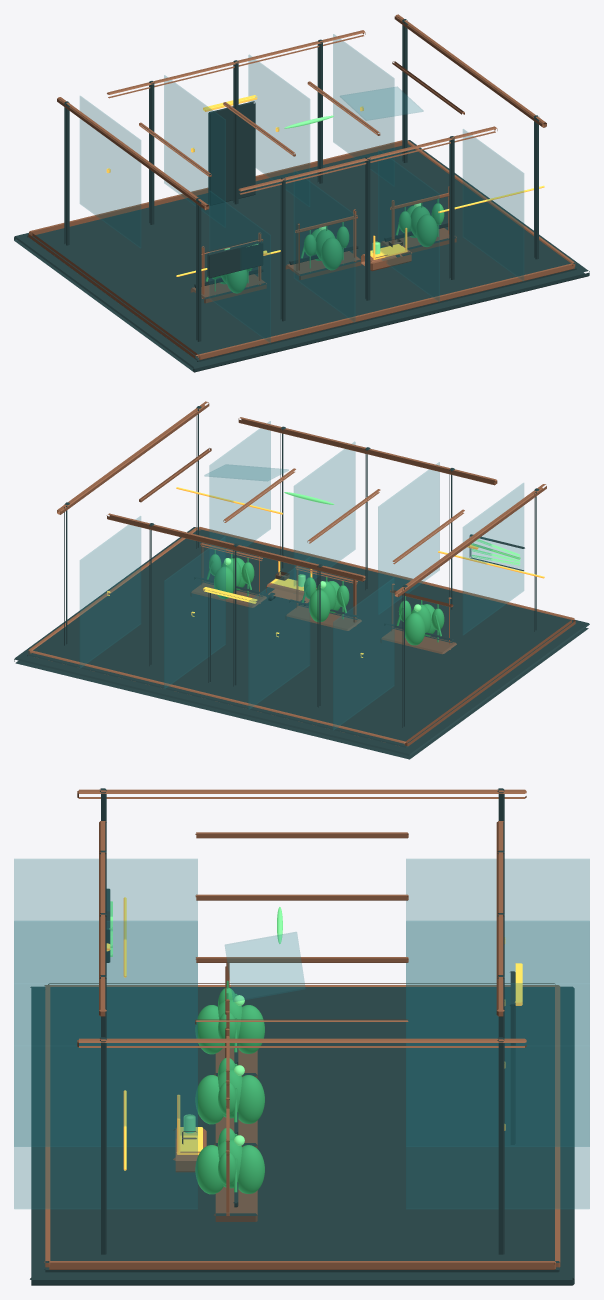
File: glasshouse.gltf
3 views of the same model, one above another, from view 1: azimuth 30°, elevation 25°; view 2: azimuth 150°, elevation 25°; view 3: azimuth 270°, elevation 25° (orthographic). The views are drawn at different scales.
Visible parts, largest first — view 1: GlasshouseFloor, GlasshouseFoundationPlinth, GlasshouseGlassPanel1Rear, GlasshouseGlassPanel2Rear, GlasshouseGlassPanel3Rear, GlasshouseGlassPanel3, GlasshouseGlassPanel0, GlasshouseGlassPanel1, GlasshouseGlassPanel0Rear, GlasshouseGlassPanel2, GlasshouseServiceDoor, GlasshouseFoundationRailRear (+25 smaller); view 2: GlasshouseFloor, GlasshouseFoundationPlinth, GlasshouseGlassPanel0, GlasshouseGlassPanel1, GlasshouseGlassPanel3, GlasshouseGlassPanel2, GlasshouseGlassPanel1Rear, GlasshouseGlassPanel3Rear, GlasshouseGlassPanel2Rear, GlasshouseGlassPanel0Rear, GlasshouseRearBeam, GlasshouseFrontBeam (+15 smaller); view 3: GlasshouseFloor, GlasshouseGlassPanel3, GlasshouseGlassPanel3Rear, GlasshouseGlassPanel2, GlasshouseGlassPanel2Rear, GlasshouseGlassPanel0, GlasshouseGlassPanel0Rear, GlasshouseGlassPanel1Rear, GlasshouseGlassPanel1, GlasshouseFoundationPlinth, GlasshouseFoundationRailRight, GlasshouseBrokenSkylight (+22 smaller).
Part boxes in pixels (bbox=[...]): GlasshouseFloor: bbox=[27, 144, 576, 361]; GlasshouseFoundationPlinth: bbox=[14, 140, 589, 372]; GlasshouseGlassPanel1Rear: bbox=[294, 170, 355, 322]; GlasshouseGlassPanel2Rear: bbox=[378, 150, 439, 301]; GlasshouseGlassPanel3Rear: bbox=[463, 129, 523, 280]; GlasshouseGlassPanel3: bbox=[333, 34, 394, 185]; GlasshouseGlassPanel0: bbox=[80, 96, 140, 247]; GlasshouseGlassPanel1: bbox=[164, 75, 225, 226]; GlasshouseGlassPanel0Rear: bbox=[209, 191, 270, 342]; GlasshouseGlassPanel2: bbox=[248, 55, 309, 206]; GlasshouseServiceDoor: bbox=[208, 101, 255, 205]; GlasshouseFoundationRailRear: bbox=[197, 263, 574, 359]; GlasshouseFloor: bbox=[27, 530, 576, 747]; GlasshouseFoundationPlinth: bbox=[14, 527, 589, 759]; GlasshouseGlassPanel0: bbox=[333, 578, 394, 729]; GlasshouseGlassPanel1: bbox=[248, 557, 309, 709]; GlasshouseGlassPanel3: bbox=[80, 516, 140, 667]; GlasshouseGlassPanel2: bbox=[164, 537, 225, 688]; GlasshouseGlassPanel1Rear: bbox=[378, 462, 439, 613]; GlasshouseGlassPanel3Rear: bbox=[209, 421, 270, 563]; GlasshouseGlassPanel2Rear: bbox=[294, 442, 355, 585]; GlasshouseGlassPanel0Rear: bbox=[463, 483, 523, 634]; GlasshouseRearBeam: bbox=[238, 417, 497, 485]; GlasshouseFrontBeam: bbox=[106, 513, 365, 581]; GlasshouseFloor: bbox=[44, 989, 559, 1272]; GlasshouseGlassPanel3: bbox=[406, 1045, 589, 1208]; GlasshouseGlassPanel3Rear: bbox=[14, 1045, 197, 1208]; GlasshouseGlassPanel2: bbox=[406, 983, 589, 1146]; GlasshouseGlassPanel2Rear: bbox=[14, 983, 197, 1146]; GlasshouseGlassPanel0: bbox=[406, 859, 589, 982]; GlasshouseGlassPanel0Rear: bbox=[14, 859, 197, 982]; GlasshouseGlassPanel1Rear: bbox=[14, 921, 197, 1044]; GlasshouseGlassPanel1: bbox=[406, 921, 589, 1044]; GlasshouseFoundationPlinth: bbox=[30, 986, 574, 1285]; GlasshouseFoundationRailRight: bbox=[48, 1261, 555, 1269]; GlasshouseBrokenSkylight: bbox=[225, 932, 305, 1001].
Size of the model in its own units: 18.8 by 7.05 by 15.64.
